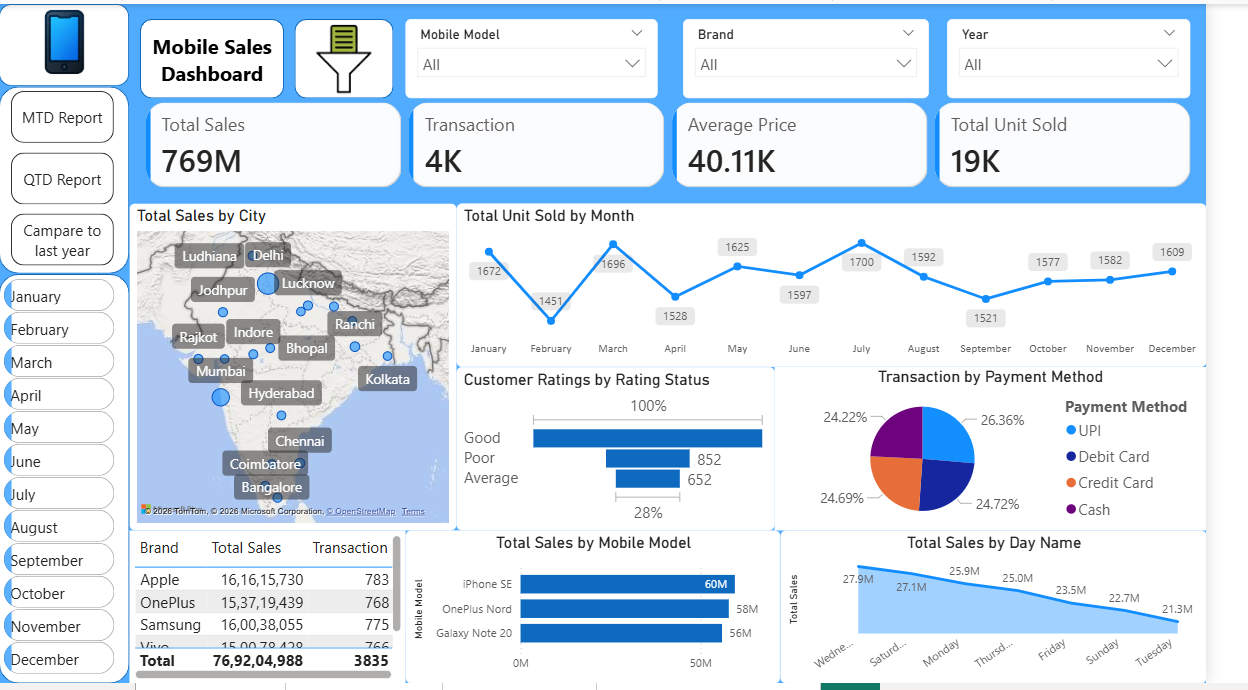

Layout of this report page (visuals, bound fields, positions):
{"tool":"powerbi","page":{"name":"Dashboard","canvas":[1280,720],"ordinal":0},"visuals":[{"type":"shape","box":[149.5,15.9,152.7,84.3],"z":0},{"type":"shape","box":[0,286.3,138.4,434.2],"z":1000},{"type":"advancedSlicerVisual","fields":{"Values":["Date.Date.Variation.Date Hierarchy.Month"]},"box":[0,286.3,127.2,434.2],"z":2000},{"type":"shape","box":[0,0,138,86.9],"z":3000},{"type":"image","box":[0,0,138.4,81.1],"z":4000},{"type":"shape","box":[0,86.9,138,198.4],"z":5000},{"type":"cardVisual","fields":{"Data":["Sheet1.Total Sales","Sheet1.Transaction","Sheet1.Average Price","Sheet1.Total Unit Sold"]},"box":[138.4,81.1,1142.1,130.4],"z":6000},{"type":"slicer","fields":{"Values":["Sheet1.Mobile Model"]},"box":[431.1,15.9,267.2,84.3],"z":7000},{"type":"slicer","fields":{"Values":["Sheet1.Brand"]},"box":[725.3,15.9,260.9,84.3],"z":8000},{"type":"slicer","fields":{"Values":["Date.Date.Variation.Date Hierarchy.Year"]},"box":[1005.3,15.9,257.7,84.3],"z":9000},{"type":"shape","box":[313.4,15.9,105,84.3],"z":10000},{"type":"image","box":[278.4,12.7,175,90.7],"z":11000},{"type":"map","fields":{"Category":["Sheet1.City"],"Size":["Sheet1.Total Sales"]},"box":[138.4,211.6,346.8,346.8],"z":12000},{"type":"lineChart","fields":{"Category":["Date.Date.Variation.Date Hierarchy.Month"],"Y":["Sheet1.Total Unit Sold"]},"box":[485.1,211.6,795.3,173.4],"z":13000},{"type":"funnel","title":"Customer Ratings by Rating Status","fields":{"Y":["CountNonNull(Sheet1.Customer Ratings)"],"Category":["Sheet1.Rating Status"]},"box":[485.1,384.9,337.2,173.4],"z":14000},{"type":"pieChart","fields":{"Category":["Sheet1.Payment Method"],"Y":["Sheet1.Transaction"]},"box":[822.3,384.9,458.1,173.4],"z":15000},{"type":"clusteredBarChart","fields":{"Y":["Sheet1.Total Sales"],"Category":["Sheet1.Mobile Model"]},"box":[431.1,558.3,397.7,162.2],"z":16000},{"type":"areaChart","fields":{"Y":["Sheet1.Total Sales"],"Category":["Date.Day Name"]},"box":[828.7,558.3,451.7,162.2],"z":17000},{"type":"tableEx","fields":{"Values":["Sheet1.Brand","Sheet1.Total Sales","Sheet1.Transaction"]},"box":[138.4,558.3,292.7,162.2],"z":18000},{"type":"pageNavigator","box":[12.7,92.3,109.8,186.1],"z":19000}]}

Visuals, with their boxes in screenshot pixels (x1, y1, x2, y2), scaled from the page's 1280x720 canvas onto the 1248x690 screenshot:
shape: x1=146, y1=15, x2=295, y2=96
shape: x1=0, y1=274, x2=135, y2=689
advancedSlicerVisual - Date.Date.Variation.Date Hierarchy.Month: x1=0, y1=274, x2=124, y2=689
shape: x1=0, y1=0, x2=135, y2=83
image: x1=0, y1=0, x2=135, y2=78
shape: x1=0, y1=83, x2=135, y2=273
cardVisual - Sheet1.Total Sales x Sheet1.Transaction: x1=135, y1=78, x2=1247, y2=203
slicer - Sheet1.Mobile Model: x1=420, y1=15, x2=681, y2=96
slicer - Sheet1.Brand: x1=707, y1=15, x2=962, y2=96
slicer - Date.Date.Variation.Date Hierarchy.Year: x1=980, y1=15, x2=1231, y2=96
shape: x1=306, y1=15, x2=408, y2=96
image: x1=271, y1=12, x2=442, y2=99
map - Sheet1.City x Sheet1.Total Sales: x1=135, y1=203, x2=473, y2=535
lineChart - Date.Date.Variation.Date Hierarchy.Month x Sheet1.Total Unit Sold: x1=473, y1=203, x2=1247, y2=369
"Customer Ratings by Rating Status" funnel: x1=473, y1=369, x2=802, y2=535
pieChart - Sheet1.Payment Method x Sheet1.Transaction: x1=802, y1=369, x2=1247, y2=535
clusteredBarChart - Sheet1.Total Sales x Sheet1.Mobile Model: x1=420, y1=535, x2=808, y2=689
areaChart - Sheet1.Total Sales x Date.Day Name: x1=808, y1=535, x2=1247, y2=689
tableEx - Sheet1.Brand x Sheet1.Total Sales: x1=135, y1=535, x2=420, y2=689
pageNavigator: x1=12, y1=88, x2=119, y2=267
